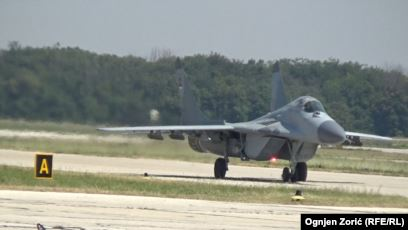Mig-29: (144, 54, 371, 194)
